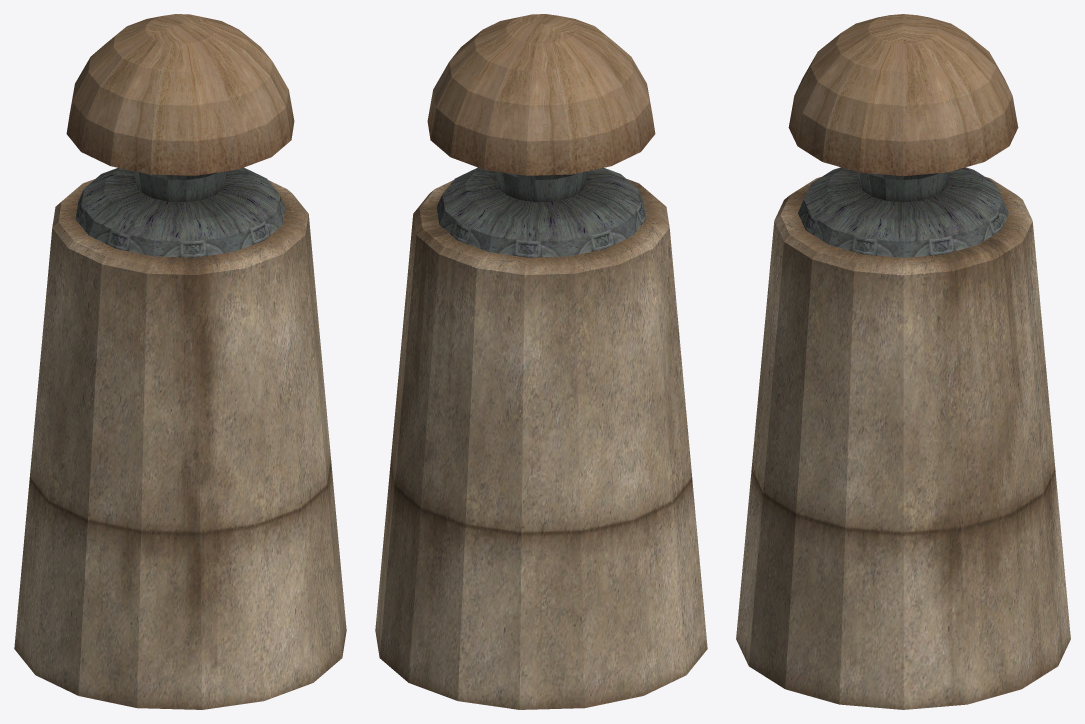
The model's file is thm_tato_jabbas_palace_tower_l0.fbx.
3 views of the same model, side by side, from view 1: azimuth 30°, elevation 25°; view 2: azimuth 150°, elevation 25°; view 3: azimuth 270°, elevation 25° (orthographic).
Parts seen in each view (by area): view 1: mesh_node; view 2: mesh_node; view 3: mesh_node.
Part boxes in pixels (box(x1,y1,x2,y2)): mesh_node: box(14, 14, 346, 709); mesh_node: box(375, 14, 707, 709); mesh_node: box(736, 14, 1070, 709).
Bounding box in the file's own units: 75.93 × 154 × 75.93.
